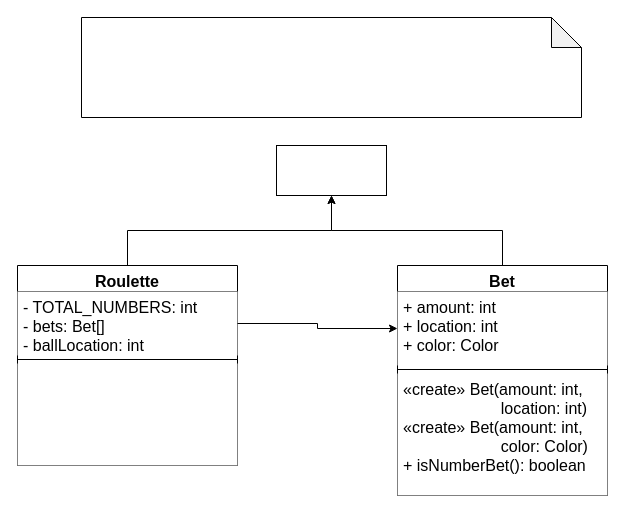
Some shapes in this 625 by 516 pixel diagram are drawn without their labels. The centre of each missing label's shape, as x and y in pixels:
+ placeBet(): void + sping(): void + payout(): int + main (args: String[]): void: the point at 127,414
I wouldn't expect students to get all of these: the point at 331,67
«enum» Color: the point at 331,170
